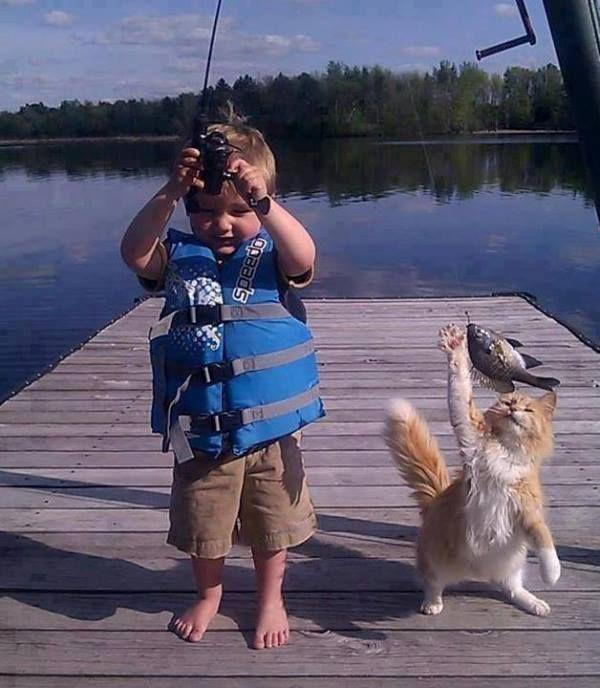kedo: (385, 328, 575, 611)
